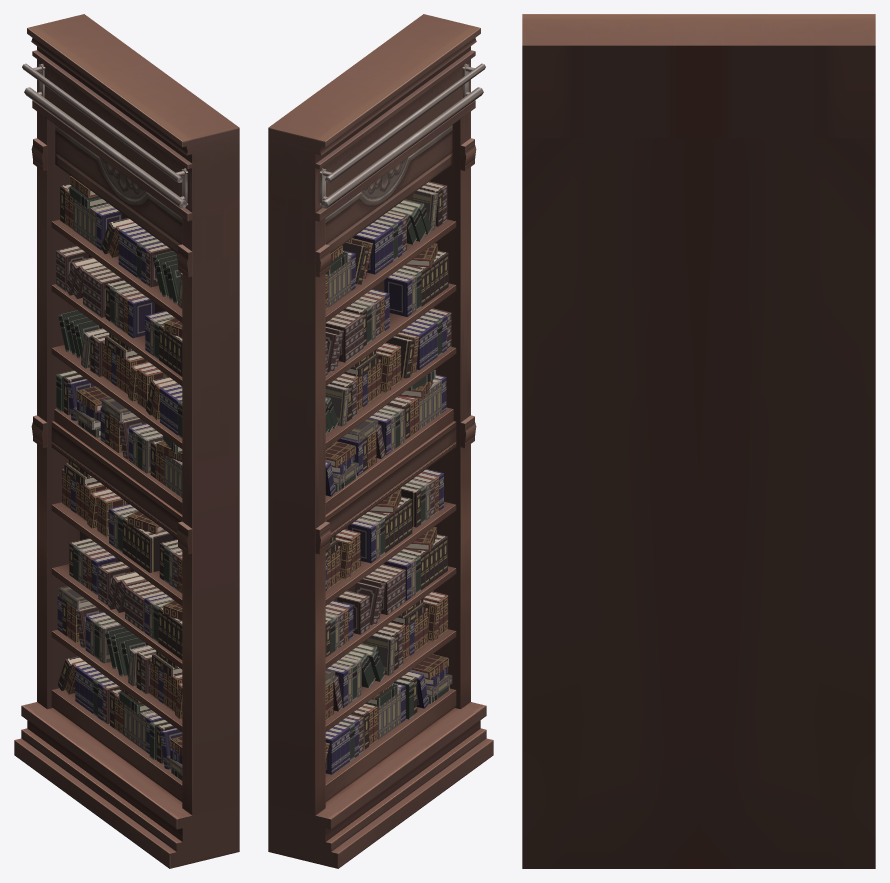
Rendered from my_wildhunt_01_bookcase_01.glb.
3 renders of one model, left to right at view 1: azimuth 30°, elevation 25°; view 2: azimuth 150°, elevation 25°; view 3: azimuth 270°, elevation 25°, orthographic. The views are drawn at different scales.
Visible parts, largest first — view 1: my_wildhunt_01_bookcase_01; view 2: my_wildhunt_01_bookcase_01; view 3: my_wildhunt_01_bookcase_01.
Part boxes in pixels (left/top/right/bottom): my_wildhunt_01_bookcase_01: left=14, top=14, right=239, bottom=868; my_wildhunt_01_bookcase_01: left=268, top=14, right=493, bottom=868; my_wildhunt_01_bookcase_01: left=522, top=14, right=875, bottom=868.
Bounding box in the file's own units: 0.00457 × 0.0452 × 0.0176.
1 material, 1 textured.
